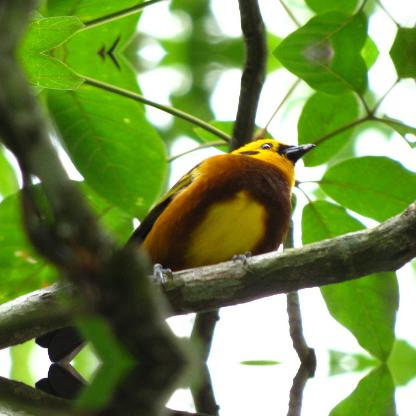Bird: (114, 139, 320, 307)
